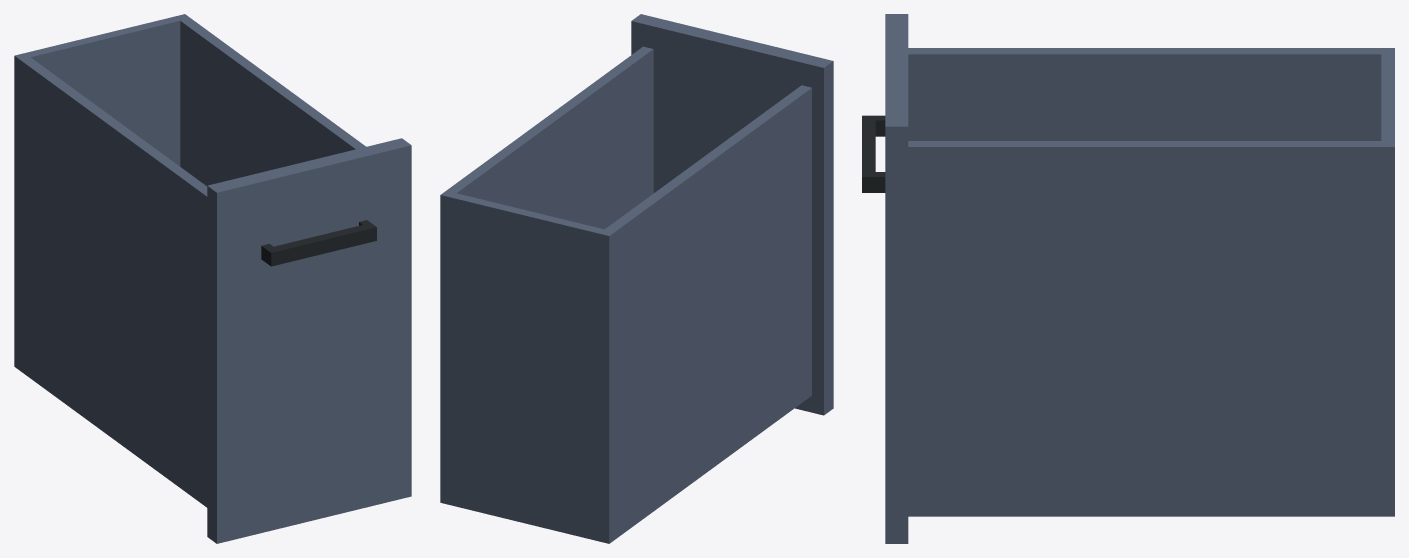
The model's file is Door2_C4_08.fbx.
The picture shows the model from 3 angles, left to right: view 1: azimuth 30°, elevation 25°; view 2: azimuth 150°, elevation 25°; view 3: azimuth 270°, elevation 25°; orthographic projection. The views are drawn at different scales.
Parts seen in each view (by area): view 1: Door2_C4_08; view 2: Door2_C4_08; view 3: Door2_C4_08.
Part boxes in pixels (left/top/right/bottom): Door2_C4_08: left=14, top=14, right=411, bottom=543; Door2_C4_08: left=440, top=14, right=833, bottom=543; Door2_C4_08: left=862, top=14, right=1394, bottom=543.
Bounding box in the file's own units: 29 × 50 × 57.89.
